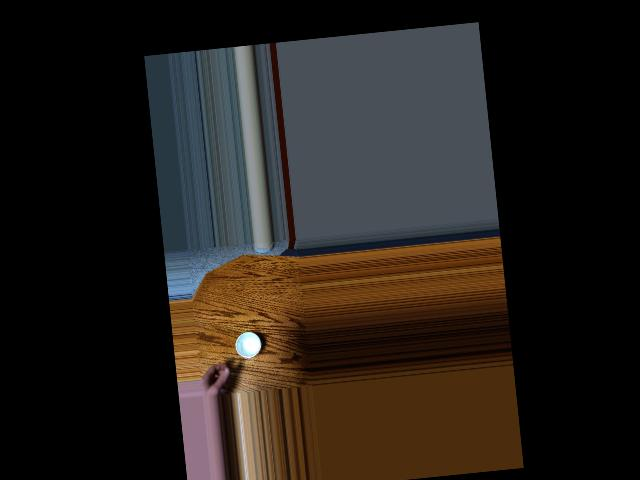cotage: (230, 327, 262, 363)
